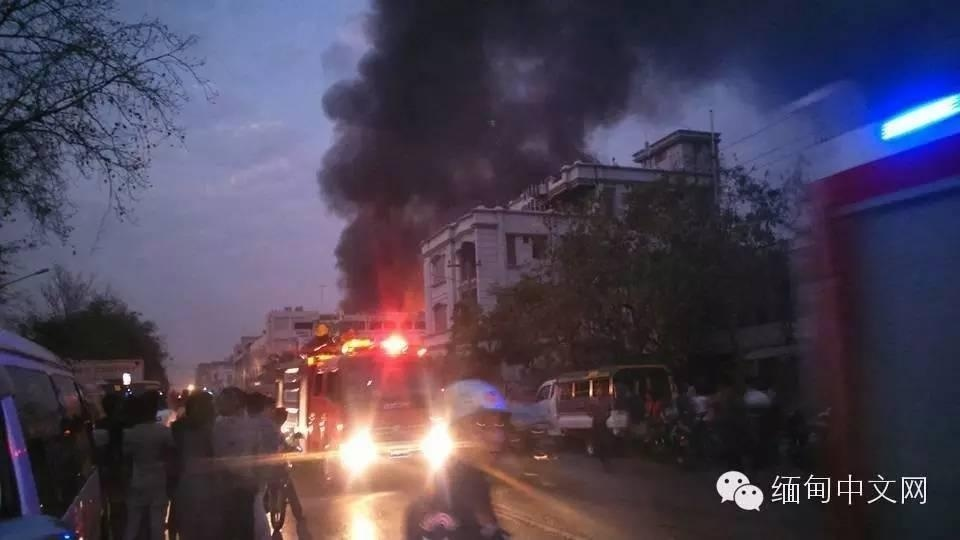fire: (309, 326, 413, 363), (418, 416, 454, 469), (345, 497, 380, 539)
